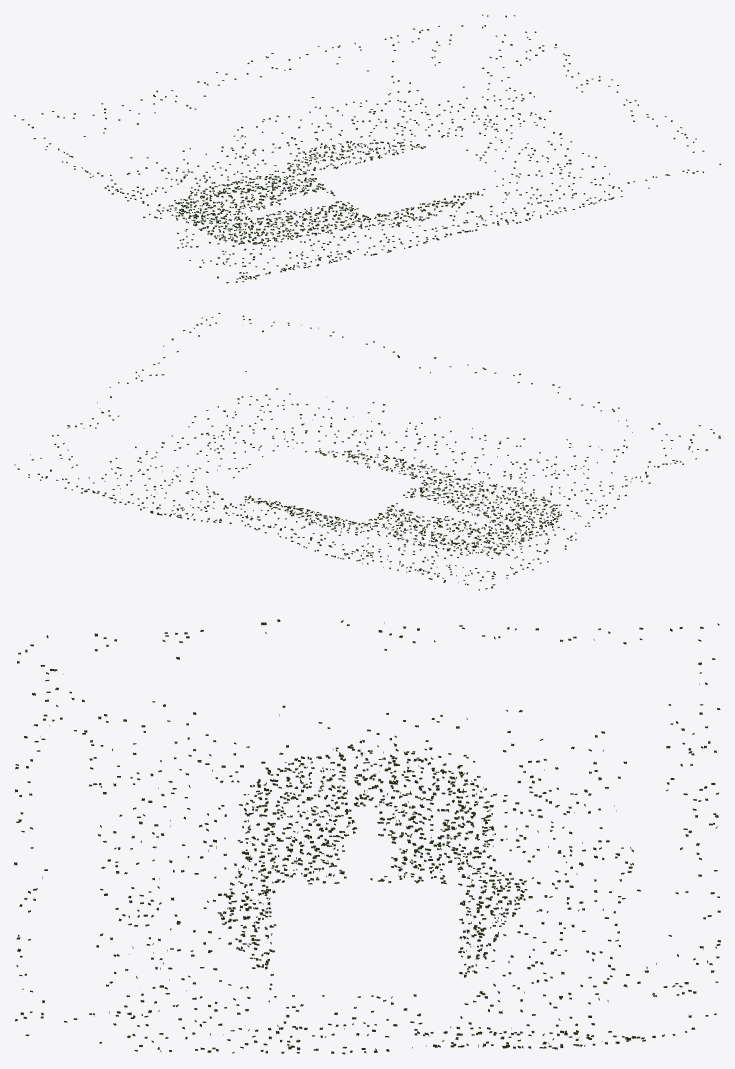
The model's file is SM_Art_Cover_L_WakingCourse_GrassBlades.gltf.
3 renders of one model, top to bottom at view 1: azimuth 30°, elevation 25°; view 2: azimuth 150°, elevation 25°; view 3: azimuth 270°, elevation 25°, orthographic. The views are drawn at different scales.
Parts seen in each view (by area): view 1: SM_Art_Cover_L_WakingCourse_GrassBlades; view 2: SM_Art_Cover_L_WakingCourse_GrassBlades; view 3: SM_Art_Cover_L_WakingCourse_GrassBlades.
Part boxes in pixels (bbox=[...]): SM_Art_Cover_L_WakingCourse_GrassBlades: bbox=[14, 14, 720, 283]; SM_Art_Cover_L_WakingCourse_GrassBlades: bbox=[14, 313, 720, 590]; SM_Art_Cover_L_WakingCourse_GrassBlades: bbox=[14, 619, 720, 1054].
Bounding box in the file's own units: 218 × 24.63 × 165.
Materials: 1 (1 with a texture image).
